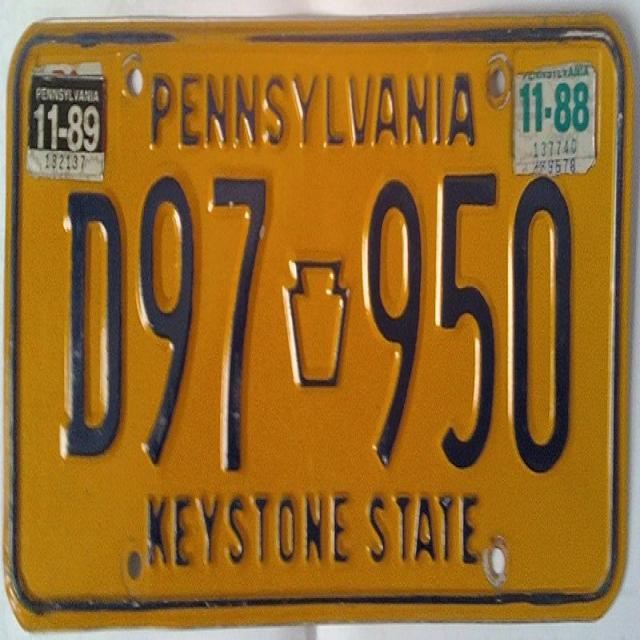placa: (29, 157, 616, 508)
